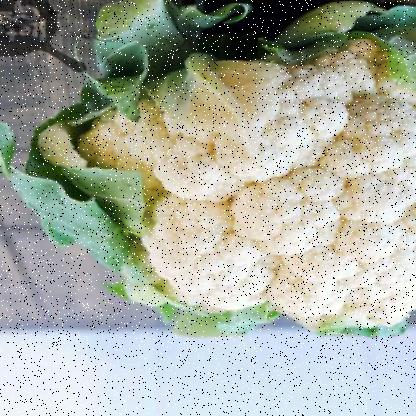cauliflower: (9, 1, 409, 329)
